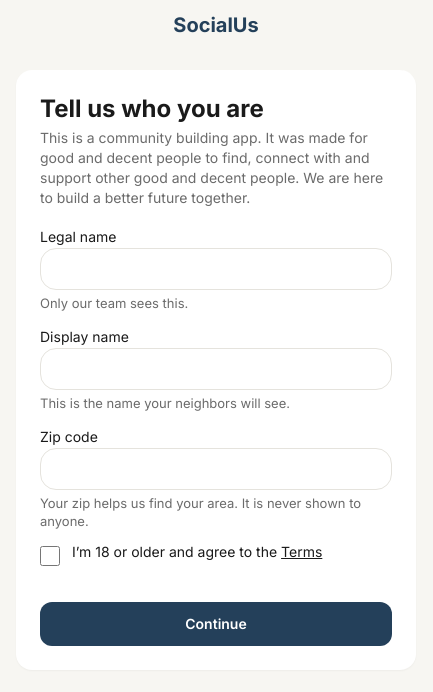
Test: F103 — the zip decides the market, and the screen shows it › an unknown zip stays on the form with the refusal under the zip
In the field with test id "onboarding-legal-name": (216, 269) [40,248,392,290], type "Maya Rivera"
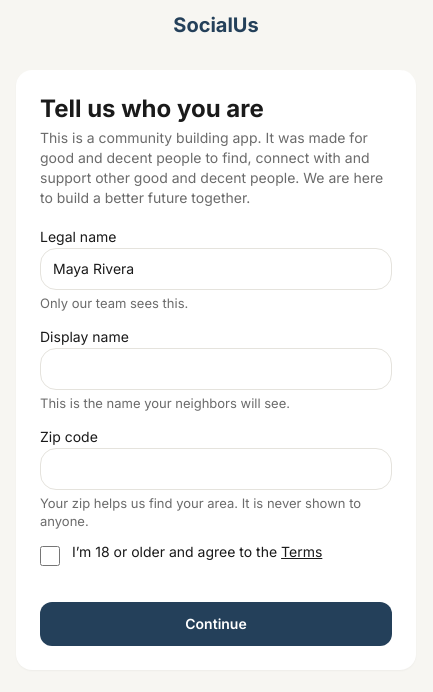
In the field with test id "onboarding-name": (216, 369) [40,348,392,390], type "Maya"
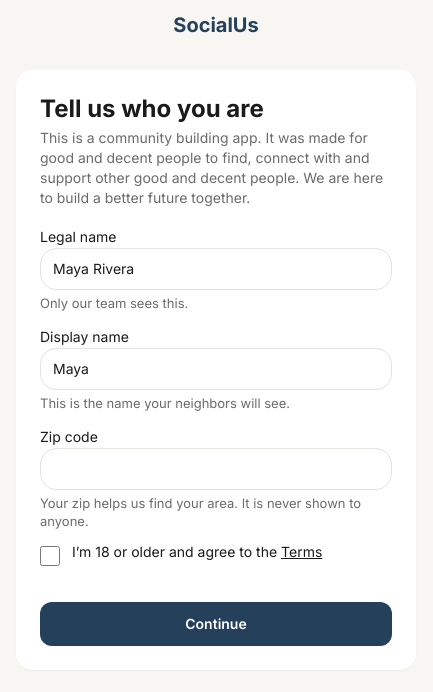
In the field with test id "onboarding-zip": (216, 469) [40,448,392,490], type "00000"
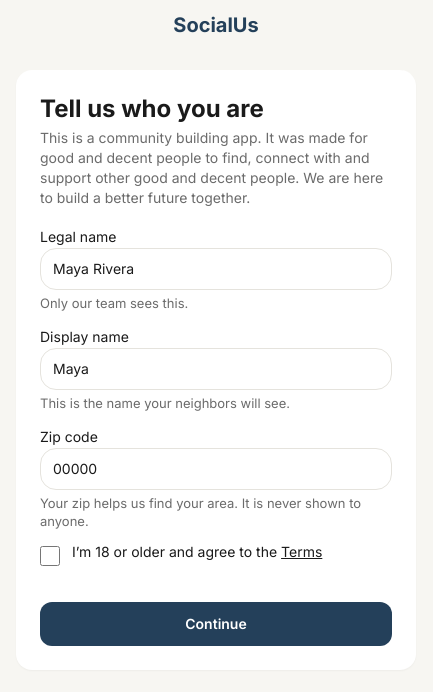
Click the checkbox with test id "onboarding-adult": (50, 556) [40,546,60,566]
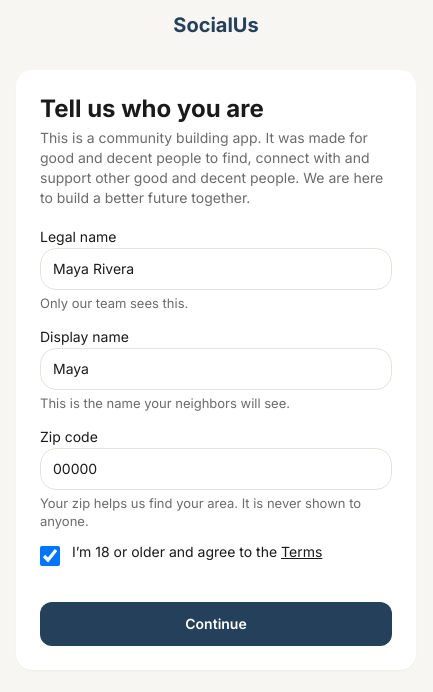
Click the button with test id "onboarding-continue": (216, 624) [40,602,392,646]
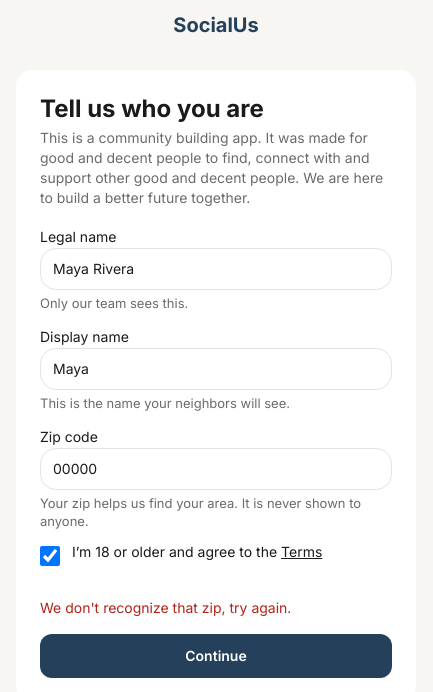
Check: the text "We don't recognize that zip, try again." is shown, box [40,599,291,616]
